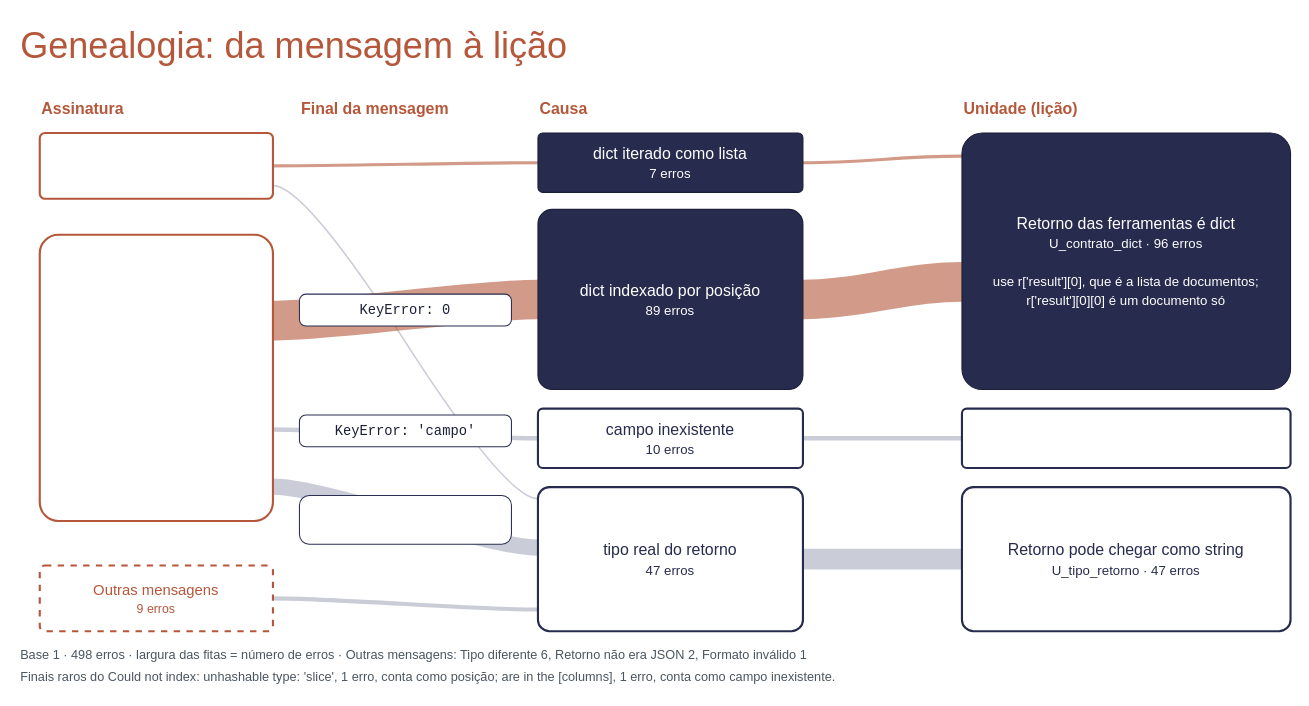
Image size: 1309x706. Some labels were removed from this diagram. The centre of each missing label's shape, as x and y in pixels:
"Campo inexistente no retorno U_campo_inexistente · 10 erros" goes at (x=1125, y=438).
"Falha ao indexar (Could not index) 136 erros" goes at (x=155, y=377).
"Objeto sem o atributo 8 erros" goes at (x=155, y=165).
"string indices must be integers" goes at (x=404, y=519).
